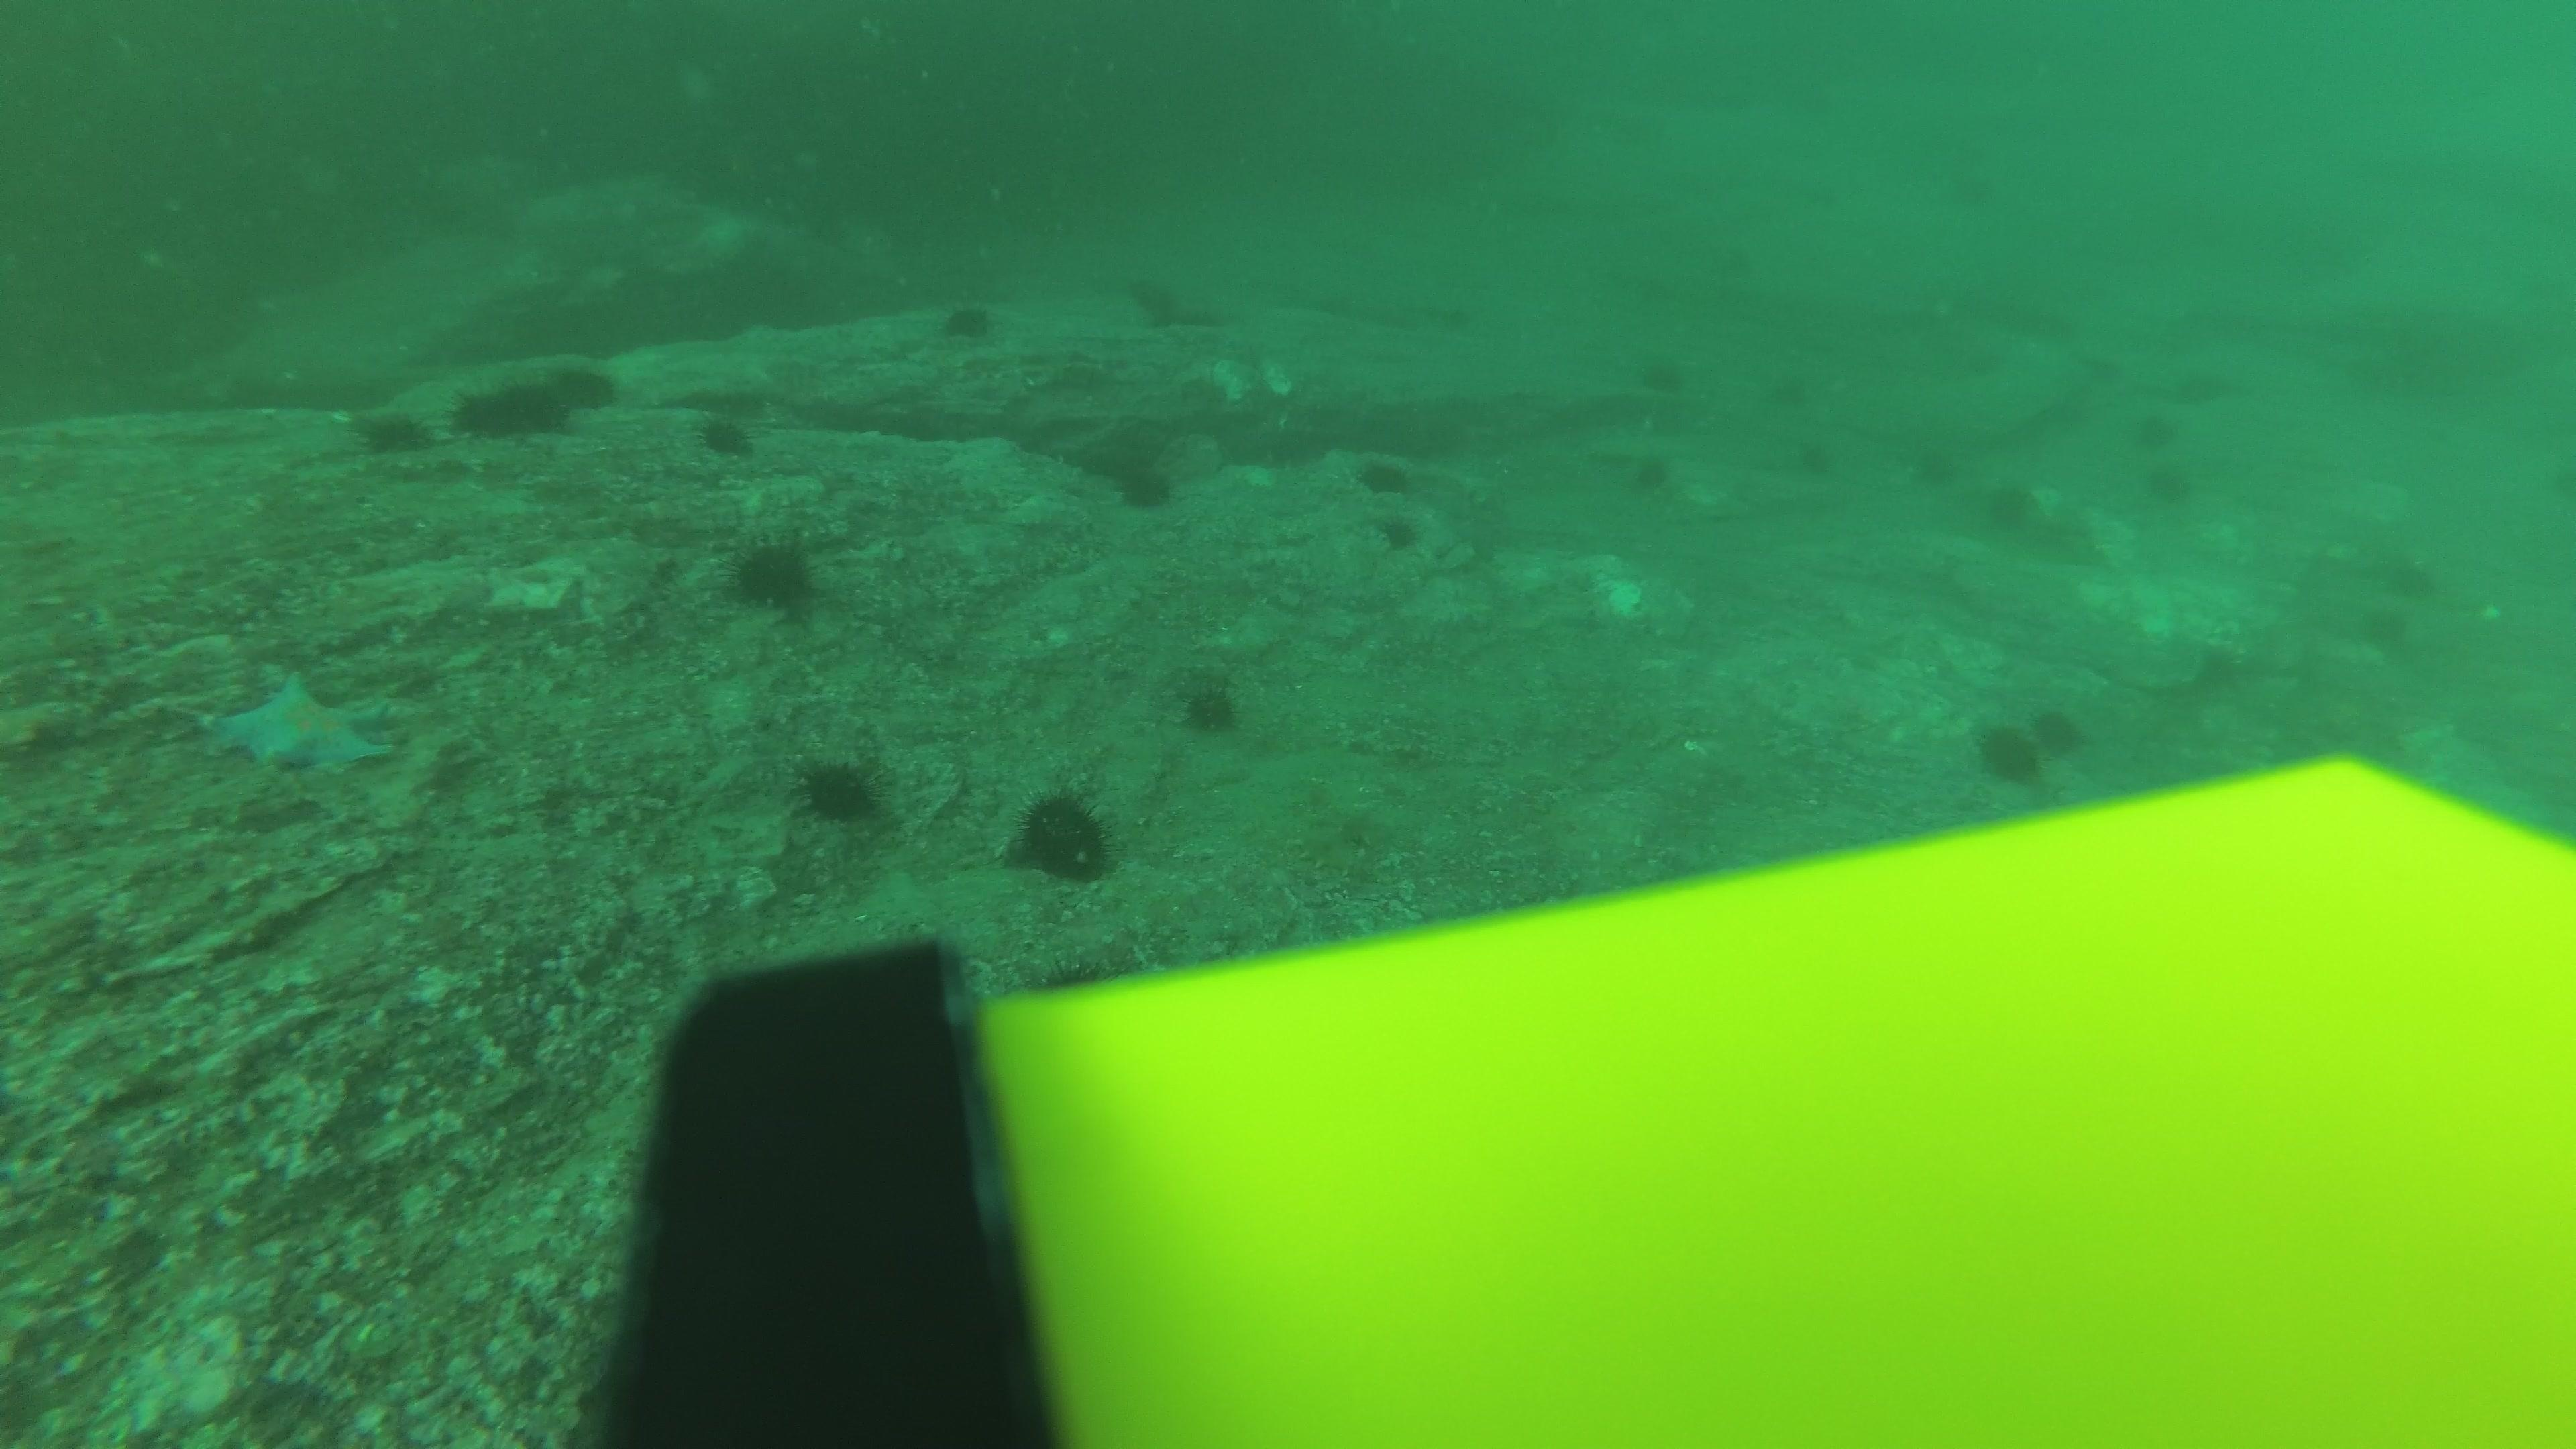echinus: (1008, 786, 1118, 885), (725, 533, 821, 616), (791, 750, 886, 828), (2013, 701, 2089, 775), (1969, 720, 2049, 789), (497, 375, 571, 442), (1108, 448, 1182, 513), (1175, 672, 1246, 738), (1974, 476, 2042, 543), (545, 357, 617, 419), (350, 402, 432, 455), (692, 405, 759, 462), (938, 294, 1000, 347), (453, 387, 513, 441), (2118, 400, 2173, 455), (1762, 361, 1817, 416), (1948, 159, 2003, 214), (2148, 462, 2201, 517), (1631, 446, 1679, 506), (1640, 350, 1688, 410), (1799, 435, 1847, 495), (1909, 441, 1957, 501), (1353, 453, 1415, 499), (2162, 366, 2215, 419), (1369, 508, 1424, 556), (1127, 271, 1177, 318), (1166, 297, 1215, 345), (1431, 292, 1481, 340), (1720, 239, 1767, 287), (1798, 175, 1845, 223)
starfish: (200, 663, 403, 780)
